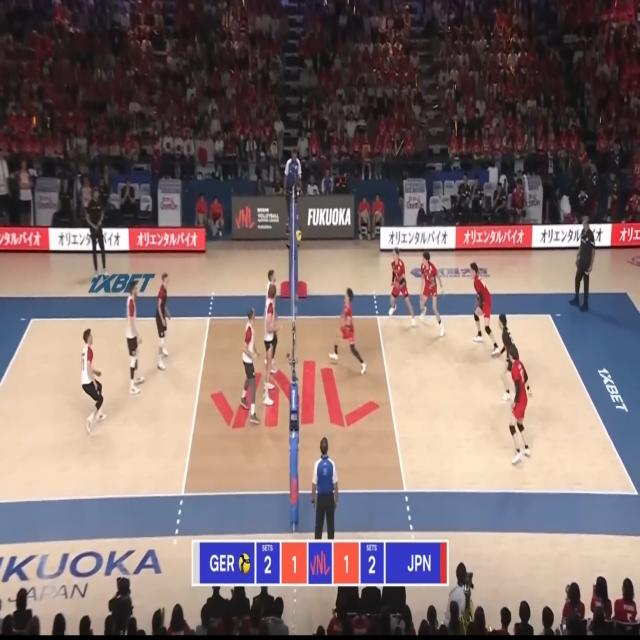ball: (295, 229, 302, 242)
